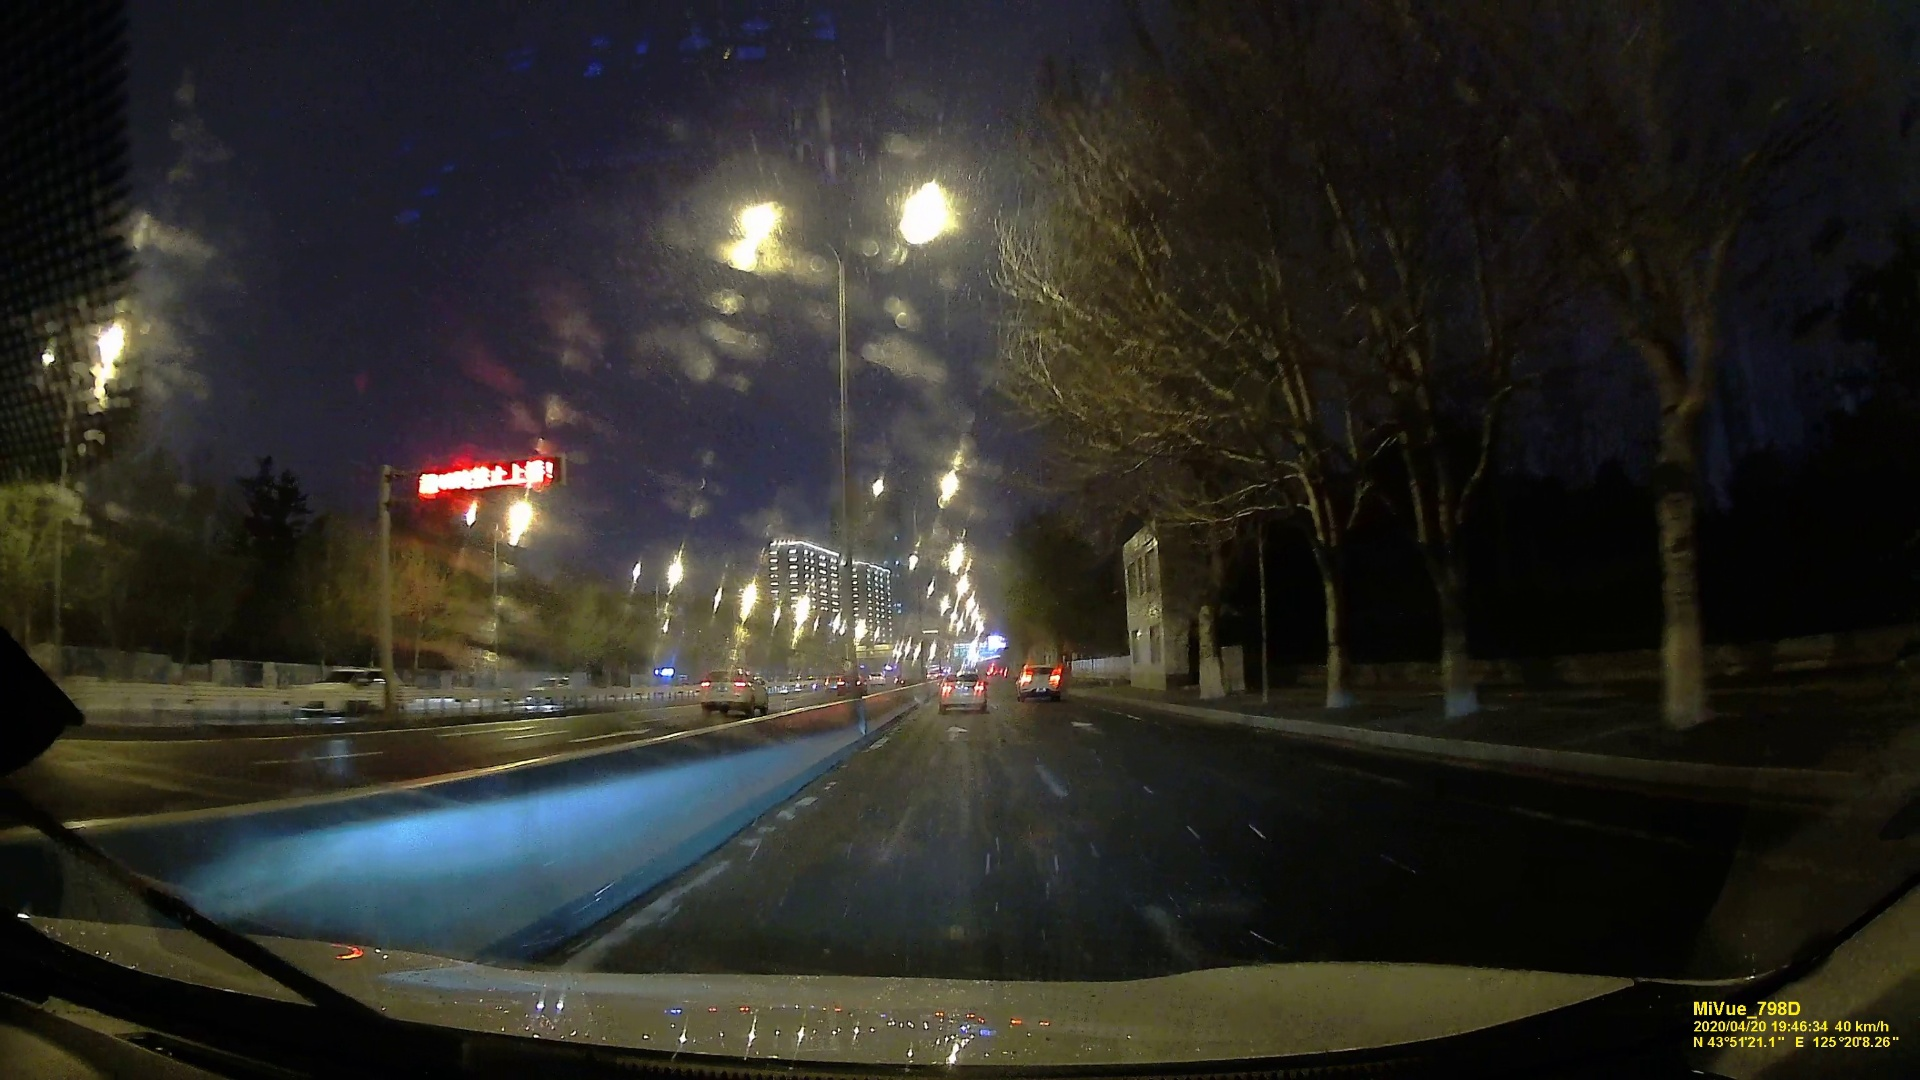vehicle: (281, 665, 394, 723), (698, 671, 774, 716), (1019, 662, 1065, 702), (939, 674, 986, 711)
